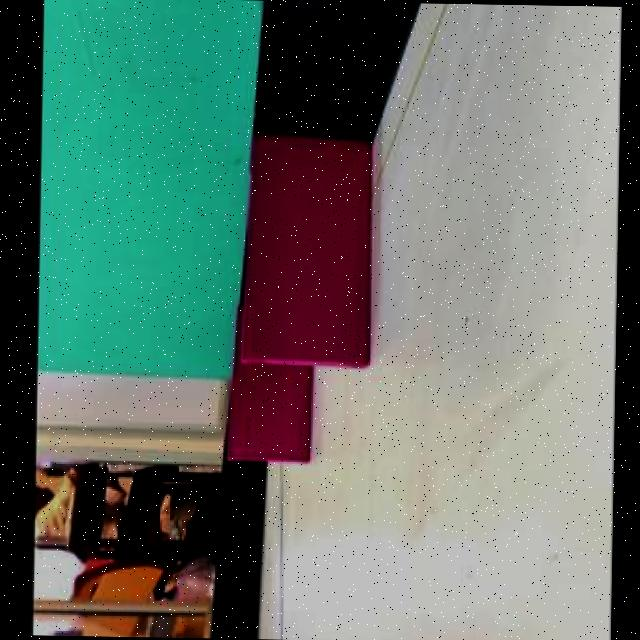xparking: (245, 132, 376, 360), (226, 363, 314, 456)
